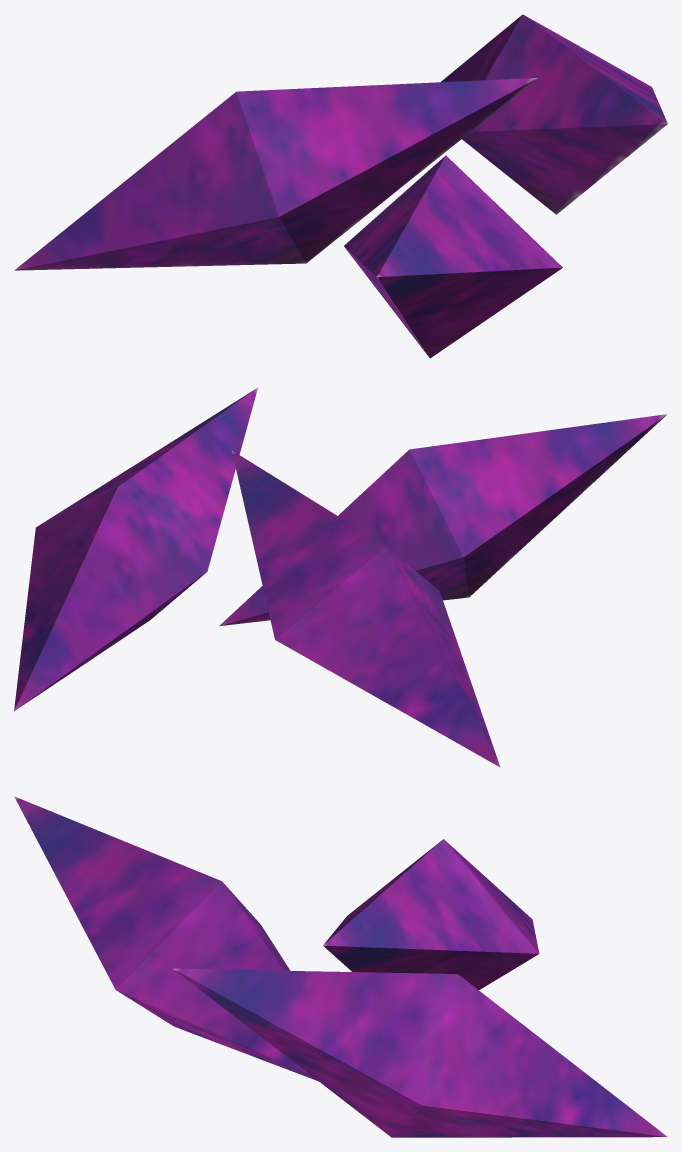
The model's file is Destellos.obj.
3 renders of one model, top to bottom at view 1: azimuth 30°, elevation 25°; view 2: azimuth 150°, elevation 25°; view 3: azimuth 270°, elevation 25°, orthographic. The views are drawn at different scales.
Parts seen in each view (by area): view 1: Destellos_grandes; view 2: Destellos_grandes; view 3: Destellos_grandes.
Part boxes in pixels (x1=…): Destellos_grandes: x1=14, y1=14, x2=667, y2=358; Destellos_grandes: x1=14, y1=387, x2=667, y2=767; Destellos_grandes: x1=14, y1=796, x2=667, y2=1137.
Bounding box in the file's own units: 2.47 × 0.7224 × 2.57.
Materials: 1 (1 with a texture image).
